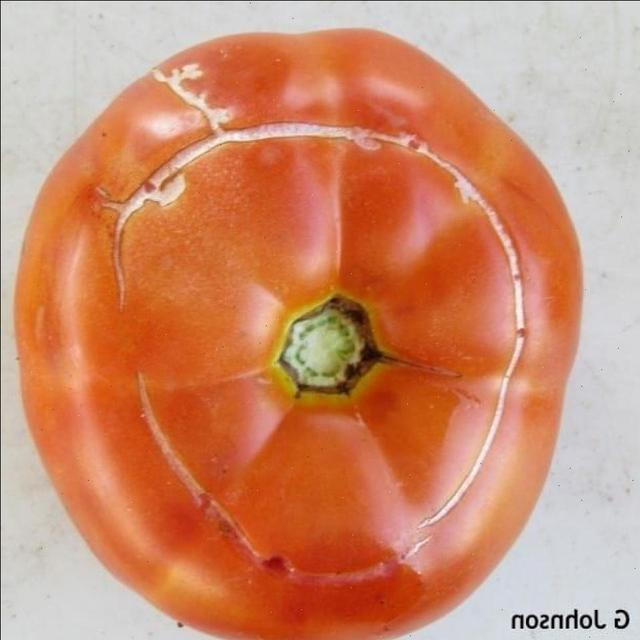Cracking Fruit: (65, 58, 283, 324)
